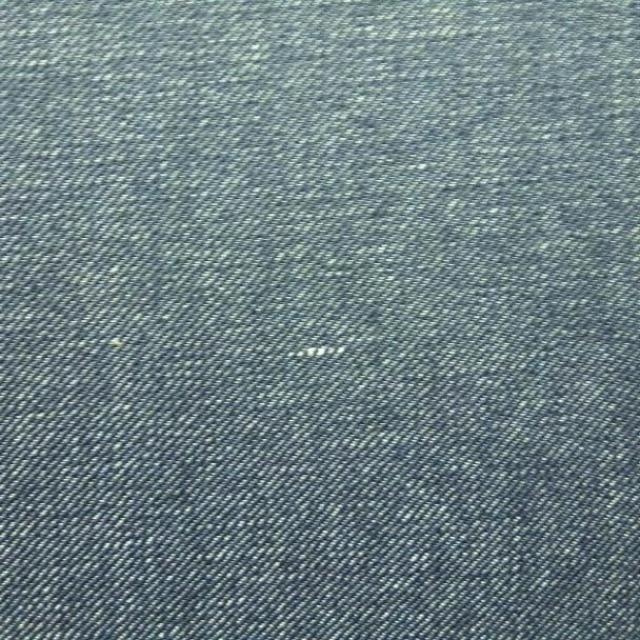Knot: (289, 347, 346, 358)
